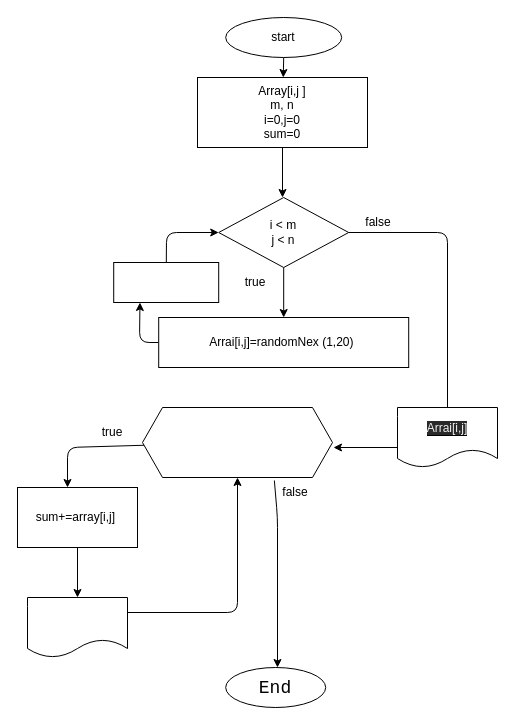
Some shapes in this 515 by 725 pixel diagram are drawn without their labels. Each missing label, with the centre of its shape:
i++ j++: [166,282]
j = 0 ; j < n ; j ++ i = 0 ; i < m ; i ++: [237,442]
Sum \ m: [77,627]
